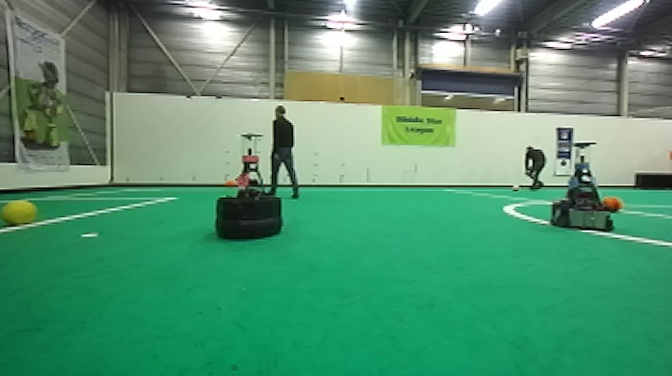ball: (1, 195, 40, 231), (600, 194, 624, 215), (221, 176, 238, 188), (510, 182, 522, 195)
human: (260, 104, 303, 200), (517, 141, 549, 192)
robot: (212, 130, 285, 244), (548, 137, 616, 236)
